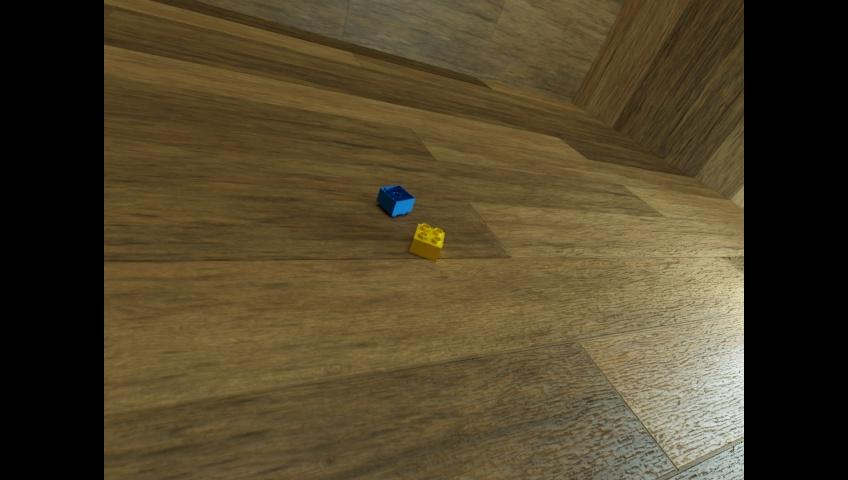2x2_blue: (376, 184, 414, 216)
2x2_yellow: (409, 223, 443, 261)
